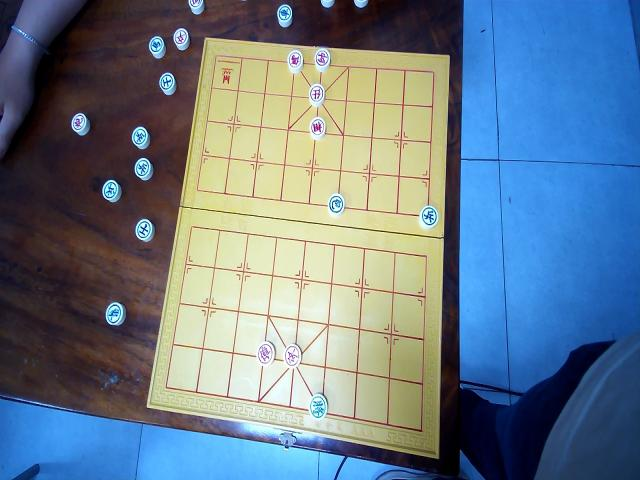piece: (256, 340, 276, 366), (309, 393, 328, 420), (70, 111, 90, 136), (134, 217, 154, 242), (418, 203, 438, 228), (106, 302, 126, 327), (326, 191, 344, 216), (283, 343, 301, 368), (308, 116, 326, 140), (158, 70, 176, 94), (131, 124, 149, 148), (102, 178, 120, 202), (134, 158, 152, 182), (172, 27, 189, 51), (148, 35, 165, 59), (314, 47, 330, 72), (287, 48, 303, 72), (276, 2, 292, 26), (308, 83, 324, 106), (188, 0, 204, 15), (353, 0, 368, 7), (320, 0, 335, 7)
